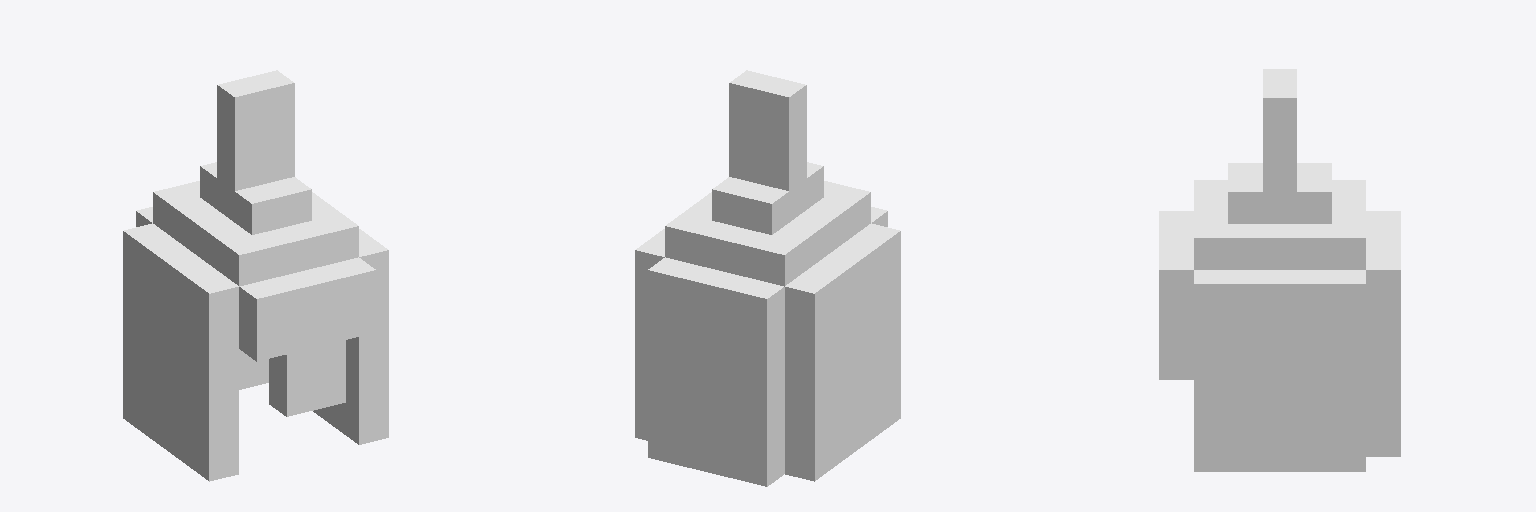
The model's file is char-166-helm_med_1e_sh.obj.
3 views of the same model, side by side, from view 1: azimuth 30°, elevation 25°; view 2: azimuth 150°, elevation 25°; view 3: azimuth 270°, elevation 25° (orthographic).
Visible parts, largest first — view 1: helm_med_1e_sh; view 2: helm_med_1e_sh; view 3: helm_med_1e_sh.
Part boxes in pixels (x1,y1,x2,y2): helm_med_1e_sh: (123,70,388,481); helm_med_1e_sh: (635,70,900,486); helm_med_1e_sh: (1159,69,1400,471).
Bounding box in the file's own units: 0.6 × 1.1 × 0.7.